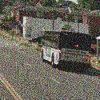buses: (39, 30, 93, 70)
